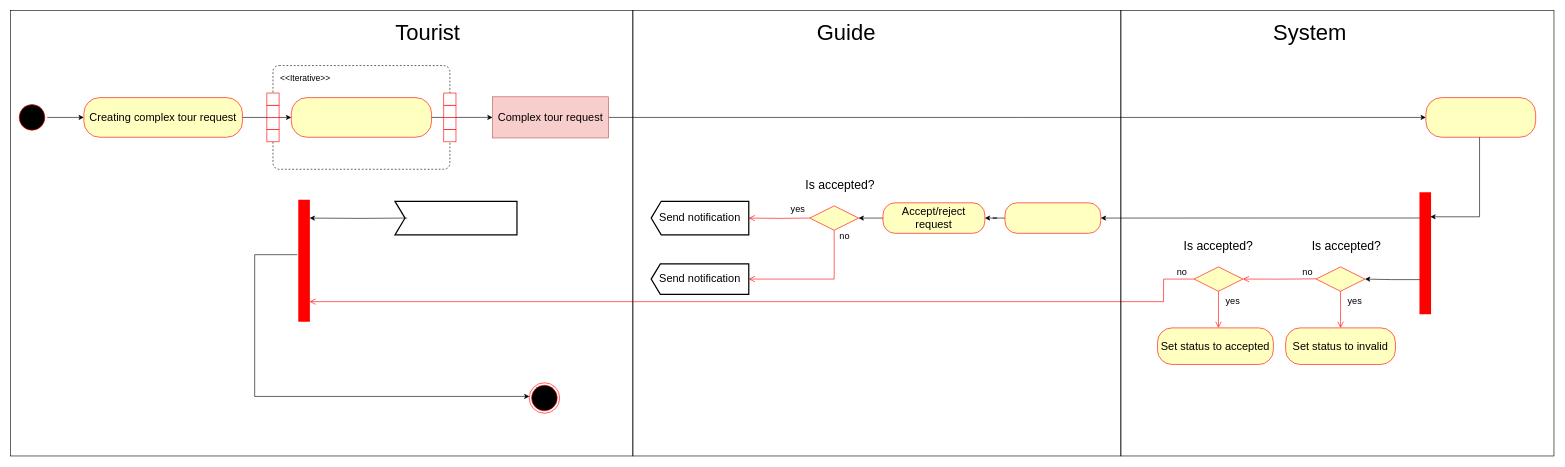
The diagram is 1565 pixels wide and 467 high, and some of its shapes have lost their labels. The centre of each missing label's shape, as x and y in pixels:
Creating basic tour request: (x=361, y=117)
Receive notification: (x=455, y=217)
Saving data: (x=1480, y=117)
Showing data: (x=1052, y=217)
